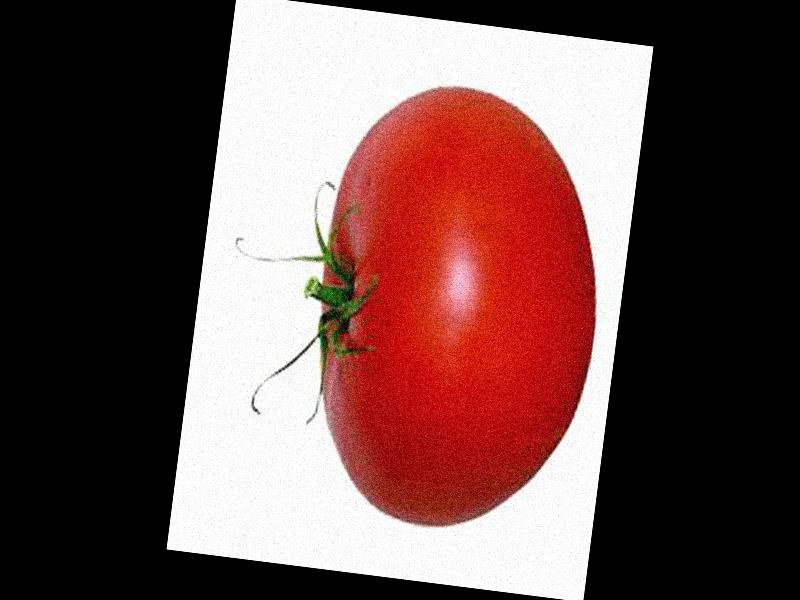Tomato: (294, 77, 620, 540)
